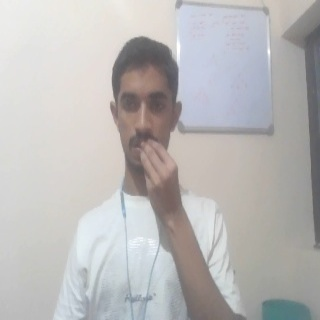Food: (136, 137, 185, 236)
